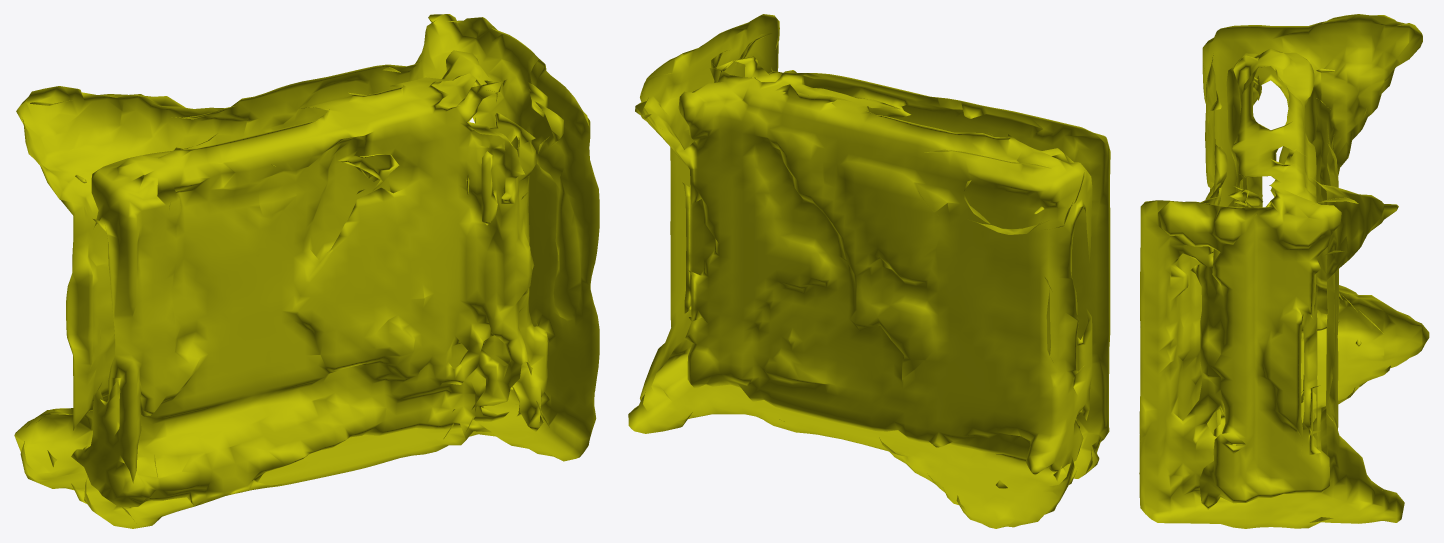
3 renders of one model, left to right at view 1: azimuth 30°, elevation 25°; view 2: azimuth 150°, elevation 25°; view 3: azimuth 270°, elevation 25°, orthographic. The views are drawn at different scales.
Parts seen in each view (by area): view 1: world; view 2: world; view 3: world.
Boxes of the visible parts, x1=… form: world: x1=14, y1=14, x2=599, y2=528; world: x1=628, y1=14, x2=1110, y2=528; world: x1=1139, y1=14, x2=1429, y2=528.
Size of the model in its own units: 38.27 by 29.44 by 23.07.
